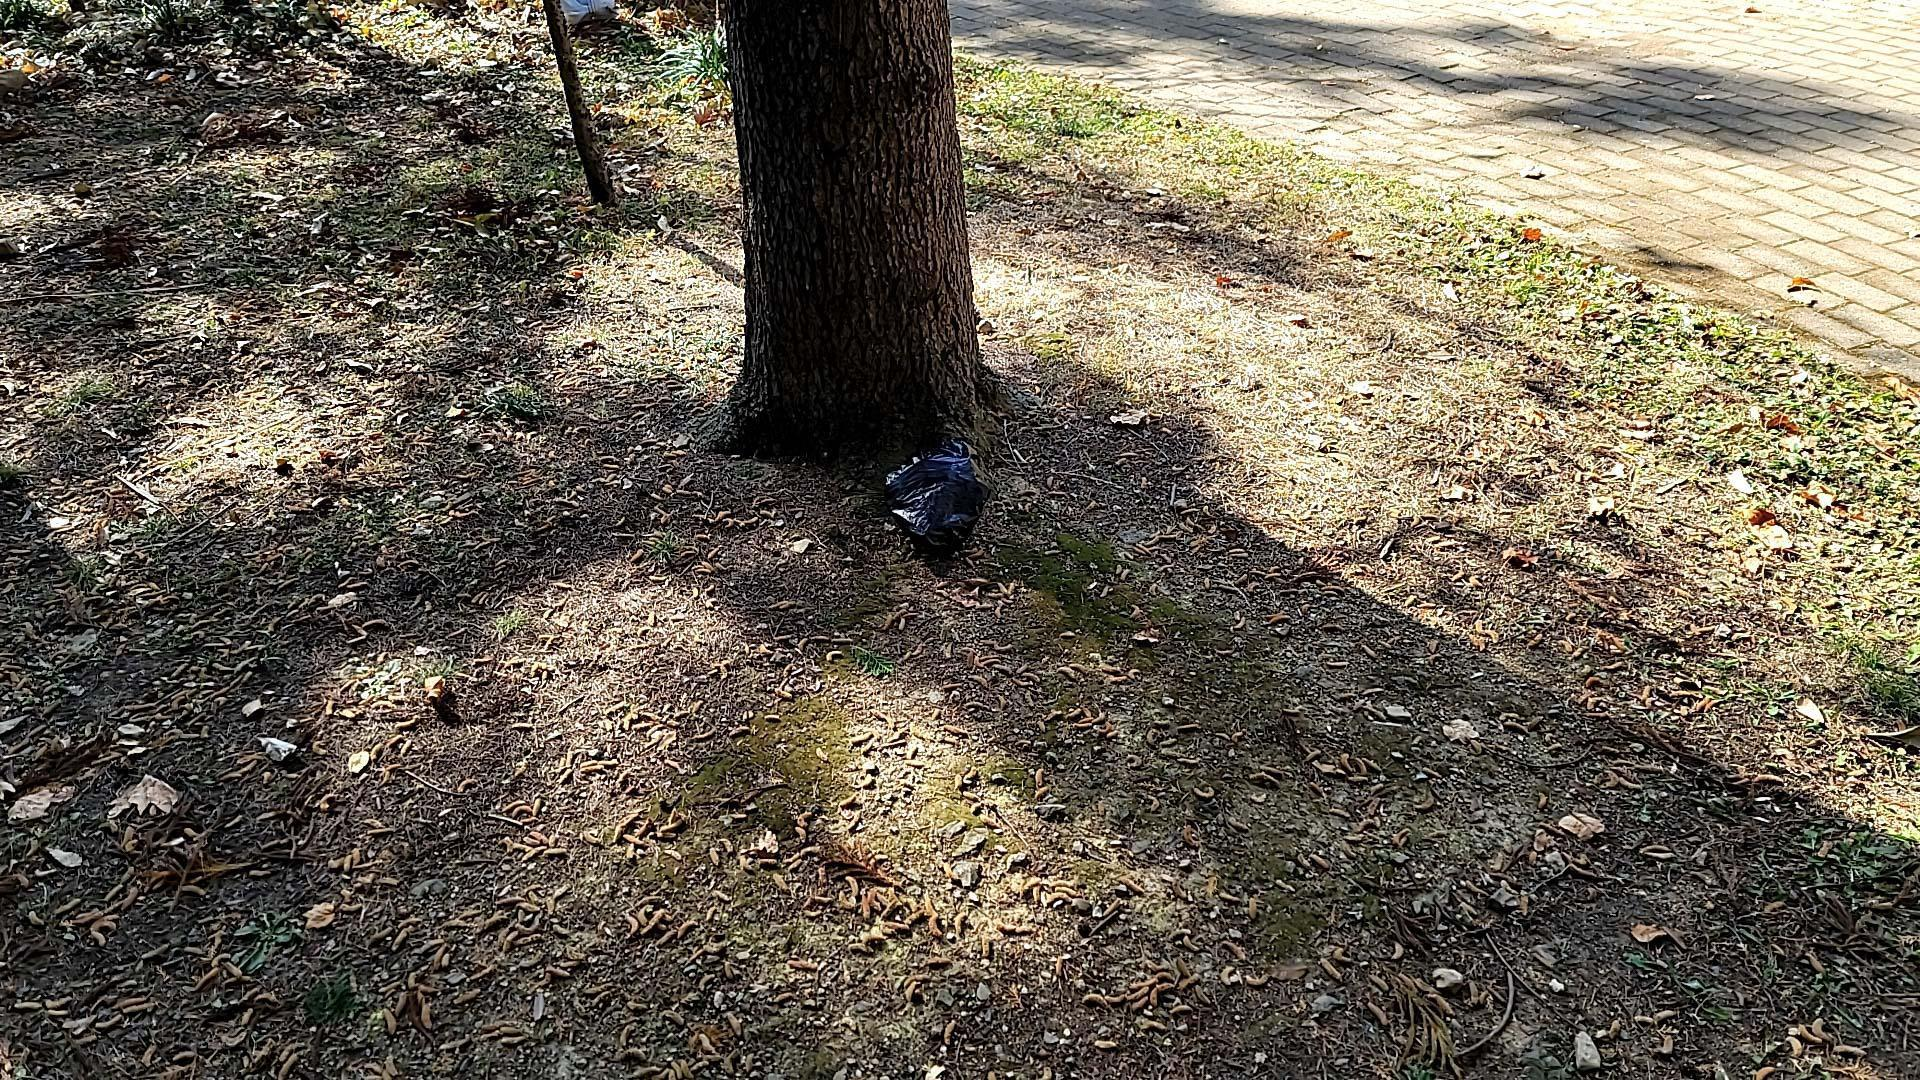black_bag: (866, 436, 1000, 567)
